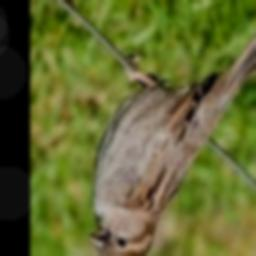Sparrow: (87, 17, 256, 256)
